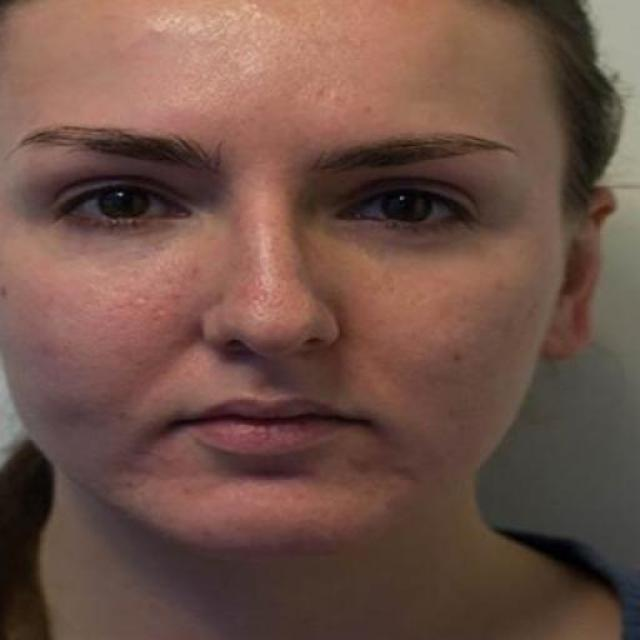Acne: (211, 275, 311, 335)
